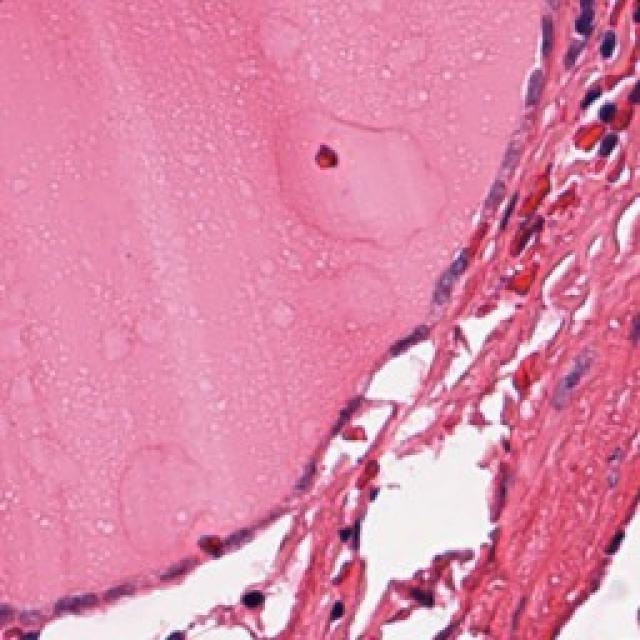normal: (419, 251, 489, 326), (455, 172, 527, 235), (503, 16, 578, 72), (497, 60, 567, 117), (142, 545, 202, 608), (383, 311, 435, 381), (38, 580, 102, 625)
